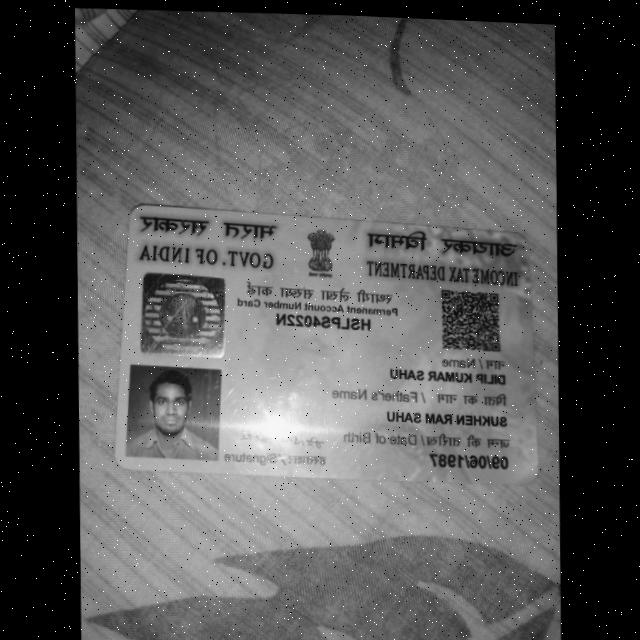card: (115, 203, 537, 482)
